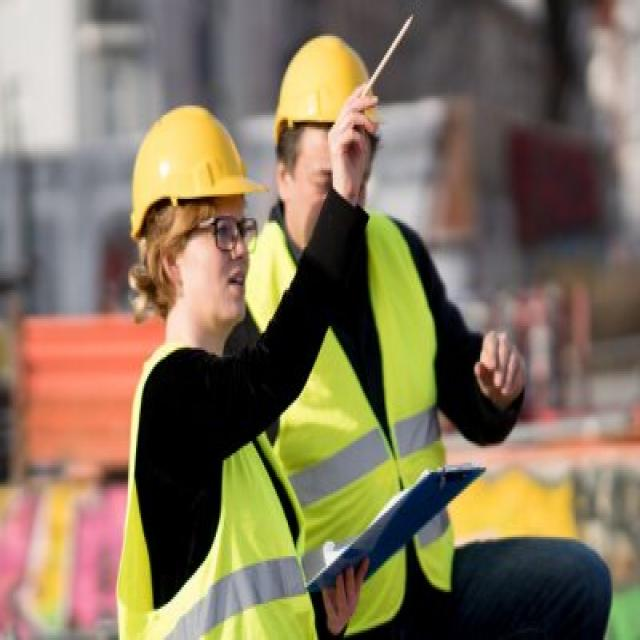helmet: (109, 85, 255, 218), (269, 28, 388, 156)
no-goggles: (182, 210, 265, 261)
vest: (260, 218, 468, 621), (109, 319, 321, 640)
